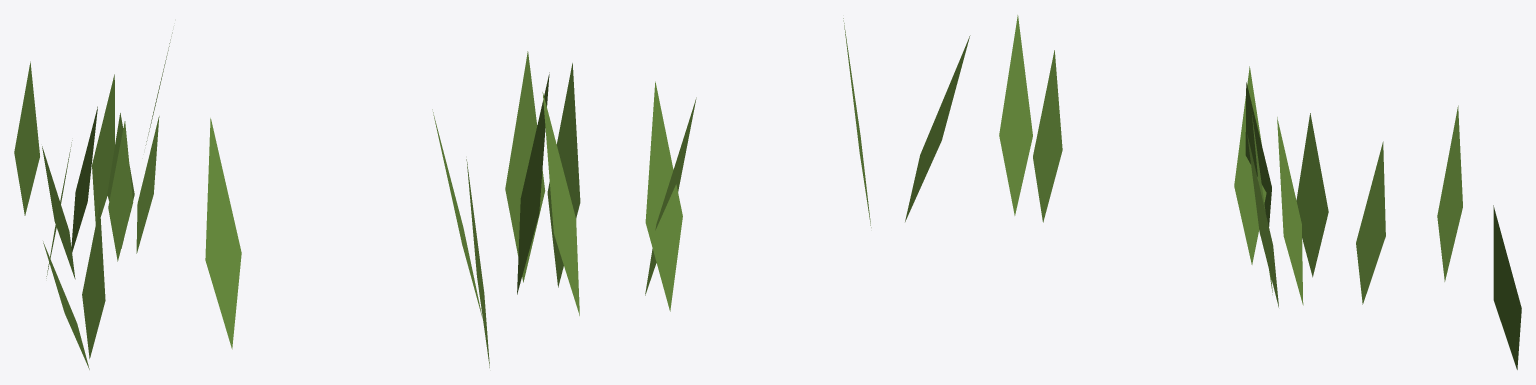
The model's file is wheat_s0.glb.
The picture shows the model from 3 angles, left to right: view 1: azimuth 30°, elevation 25°; view 2: azimuth 150°, elevation 25°; view 3: azimuth 270°, elevation 25°; orthographic projection. The views are drawn at different scales.
Parts seen in each view (by area): view 1: wheat; view 2: wheat; view 3: wheat.
Part boxes in pixels (bbox=[...]): wheat: bbox=[14, 32, 172, 369]; wheat: bbox=[205, 18, 970, 367]; wheat: bbox=[999, 15, 1521, 369].
Size of the model in its own units: 0.2742 by 0.1194 by 0.3076.
